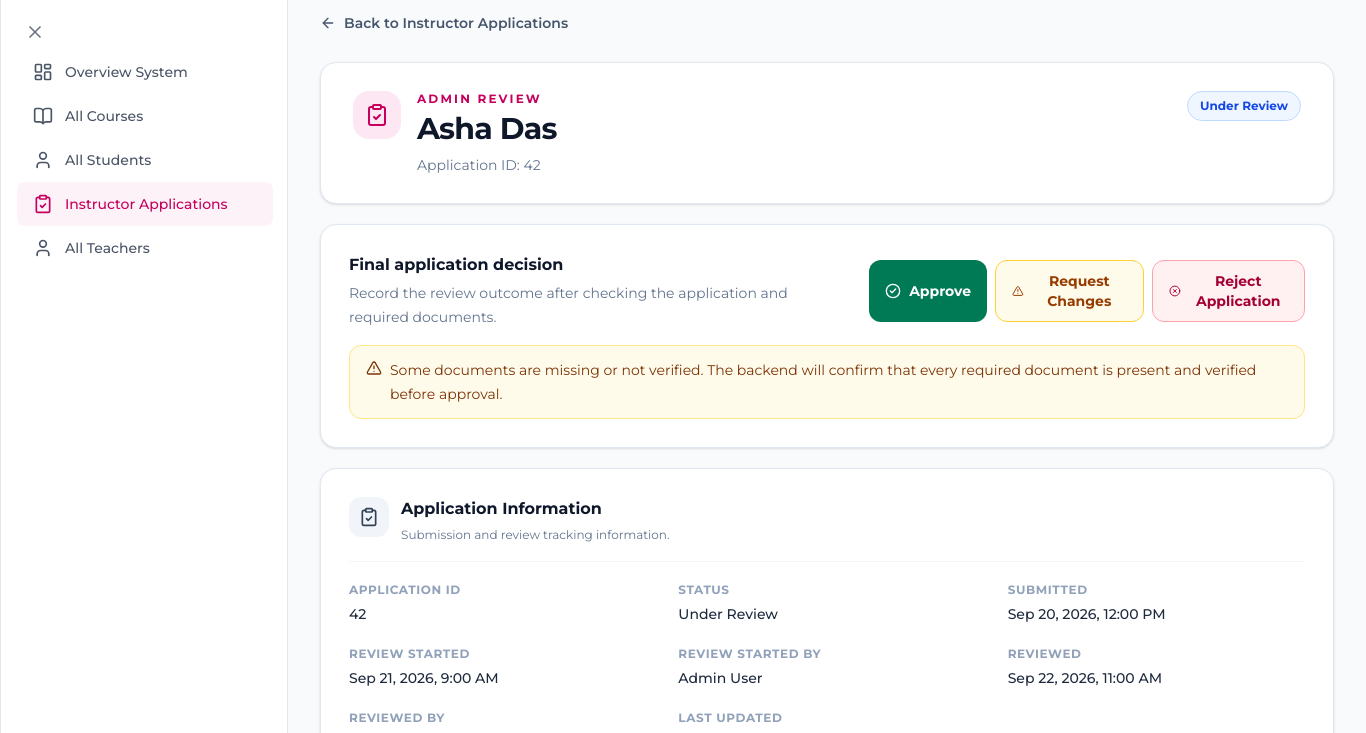
it: Instructor application review detail › requires a rejection reason and applies the returned rejected state
Click the button "Reject Application" at (1228,291), box [1152, 260, 1305, 322]
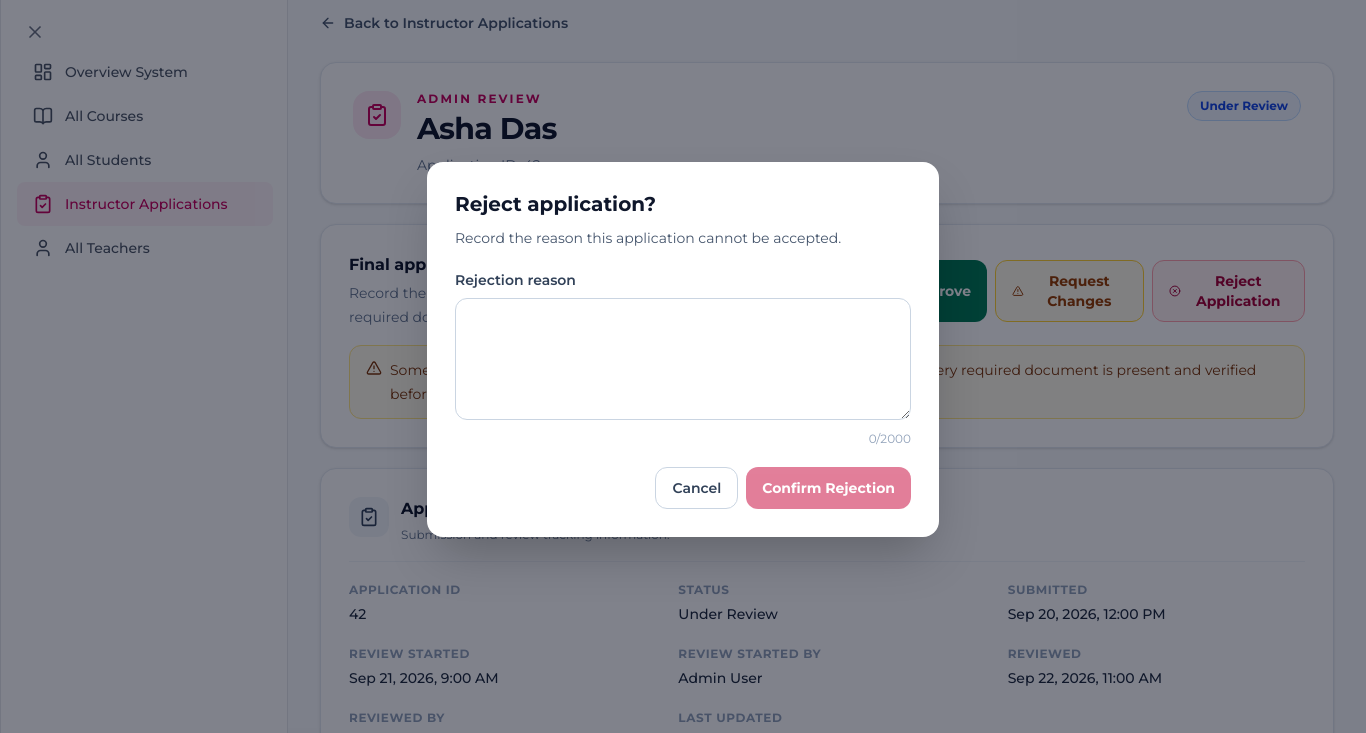
Expected: the button "Confirm Rejection" is disabled, [746, 466, 911, 508]
Type "Qualifications do not meet requirements" into the text box labelled "Rejection reason" at (683,358), box [455, 298, 911, 420]
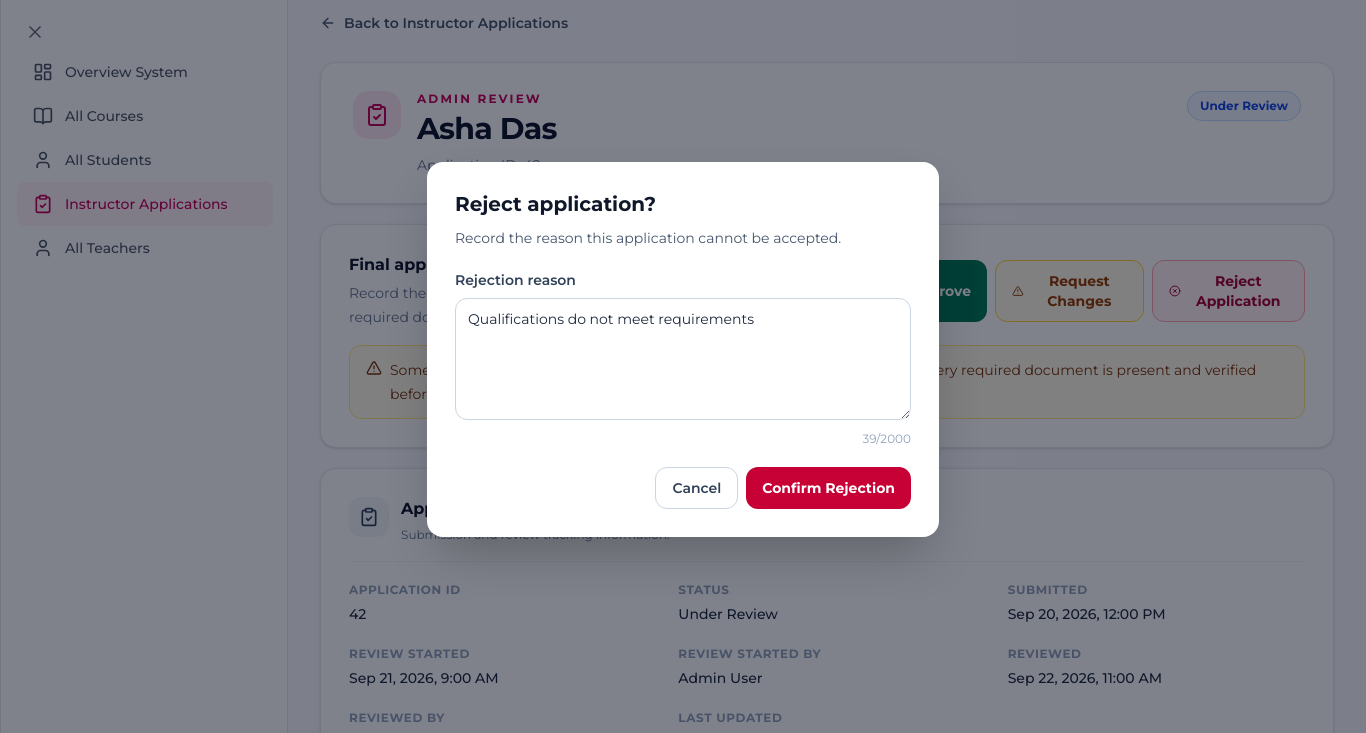
Click the button "Confirm Rejection" at (829,488), box [746, 466, 911, 508]
(page scrolled)
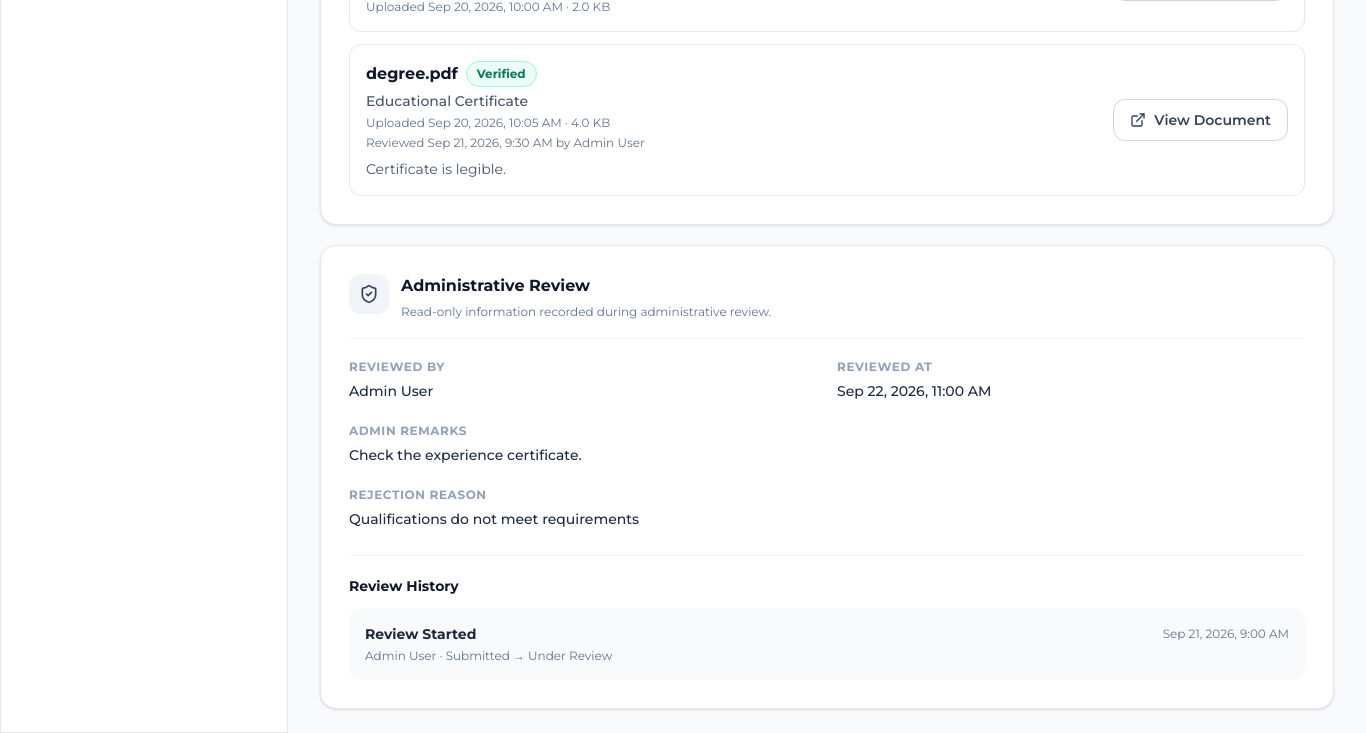
Expected: the button "Reject Application" is gone
Expected: the text "Qualifications do not meet requirements" is shown, [349, 510, 639, 528]
